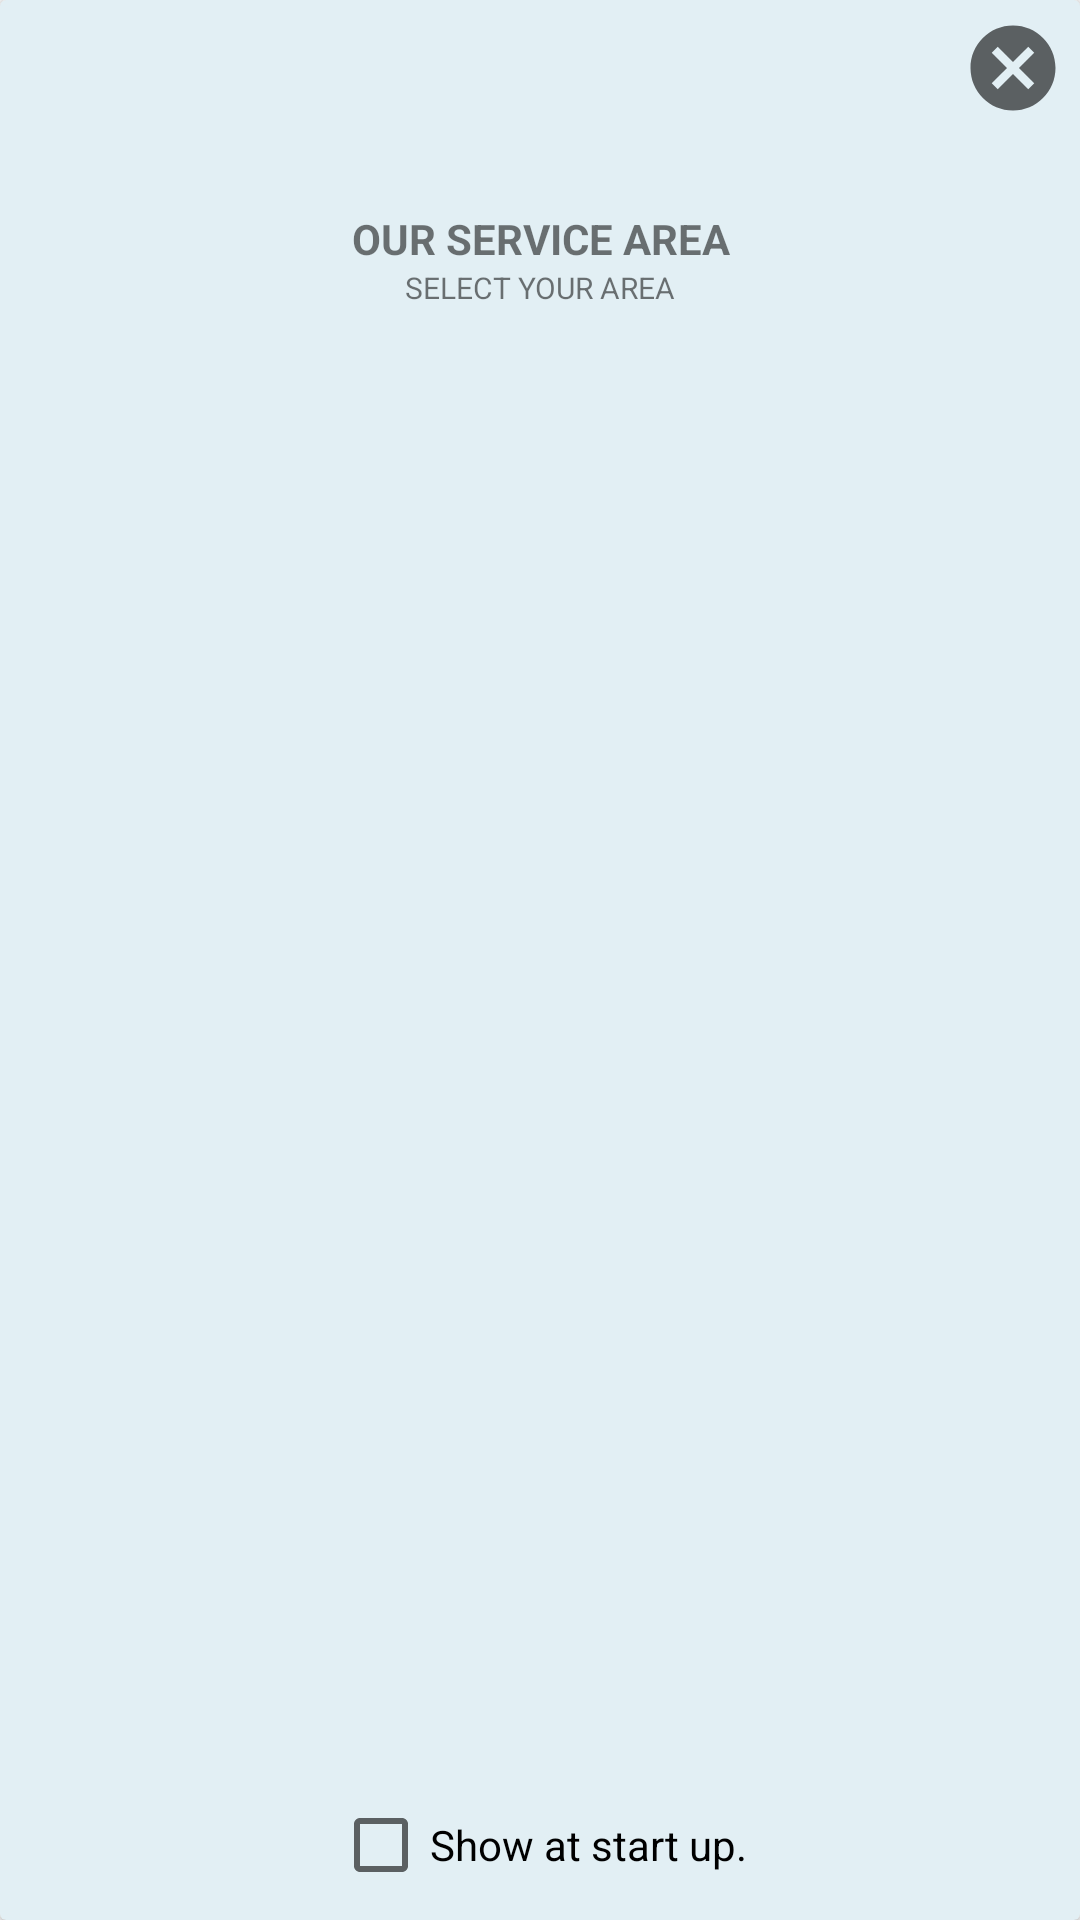

Locate icon controls on the screen. Image size 1080×1920, boxes as bbox(x1, y1, x2, y2).
cancel: bbox(970, 25, 1056, 111)
